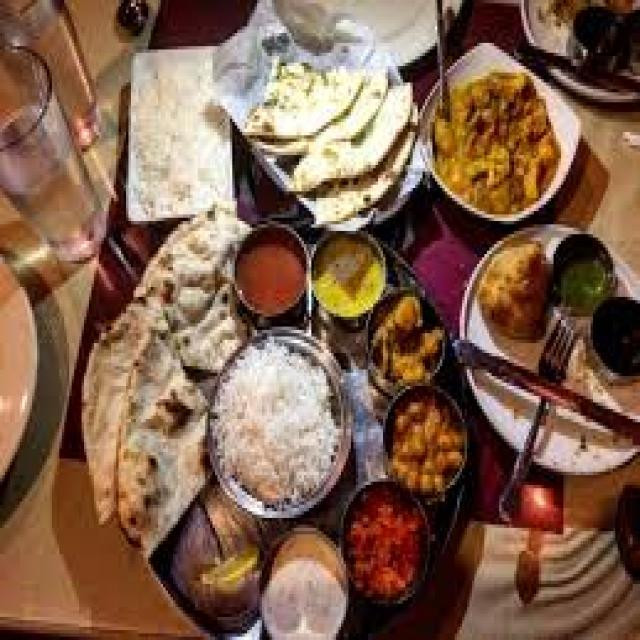dal: (1, 229, 43, 496)
papad: (268, 51, 417, 220)
rice: (250, 42, 420, 221), (424, 47, 572, 223), (214, 339, 349, 519)
roti: (79, 283, 210, 521), (149, 203, 242, 384)
sambar-rasam: (232, 224, 310, 326)
sweet: (339, 474, 442, 611), (171, 494, 267, 624), (157, 0, 264, 49), (104, 2, 169, 46)
veg-fry: (118, 48, 230, 224), (525, 0, 637, 98)
